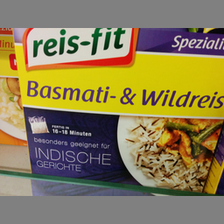rice: (13, 28, 224, 195)
